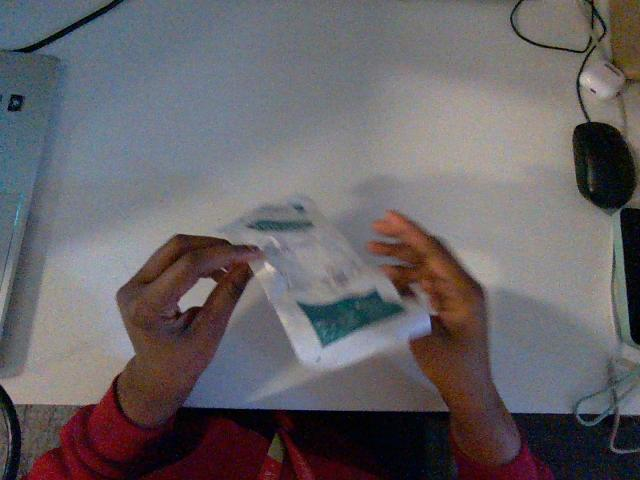gallipot: (222, 196, 430, 368)
